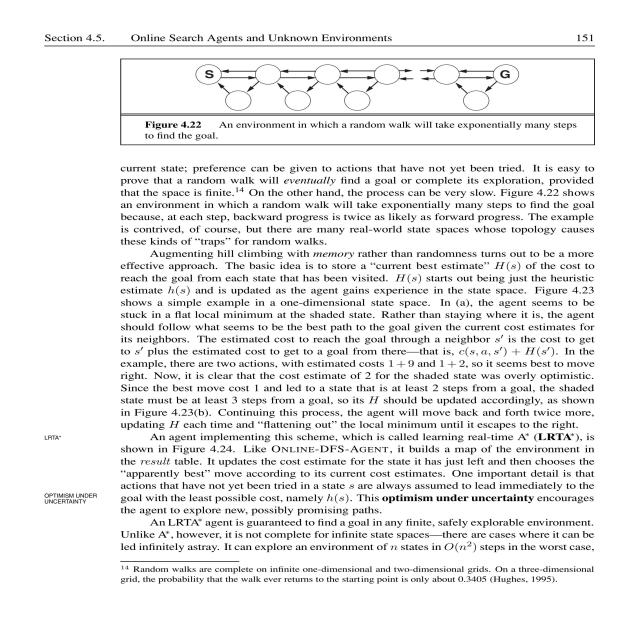diagram: (104, 54, 640, 153)
